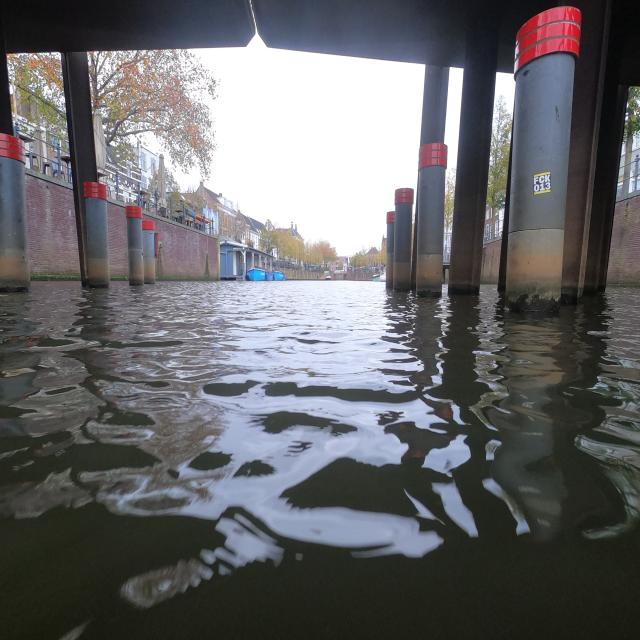sky: (193, 34, 424, 255), (607, 192, 640, 284), (481, 237, 501, 284)
wall: (25, 168, 80, 275), (144, 213, 219, 280), (607, 191, 640, 284), (107, 200, 128, 278), (481, 237, 501, 284)
water: (0, 280, 640, 640)
